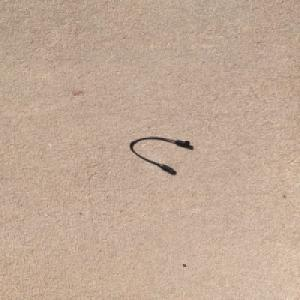Wire: (128, 136, 191, 174)
